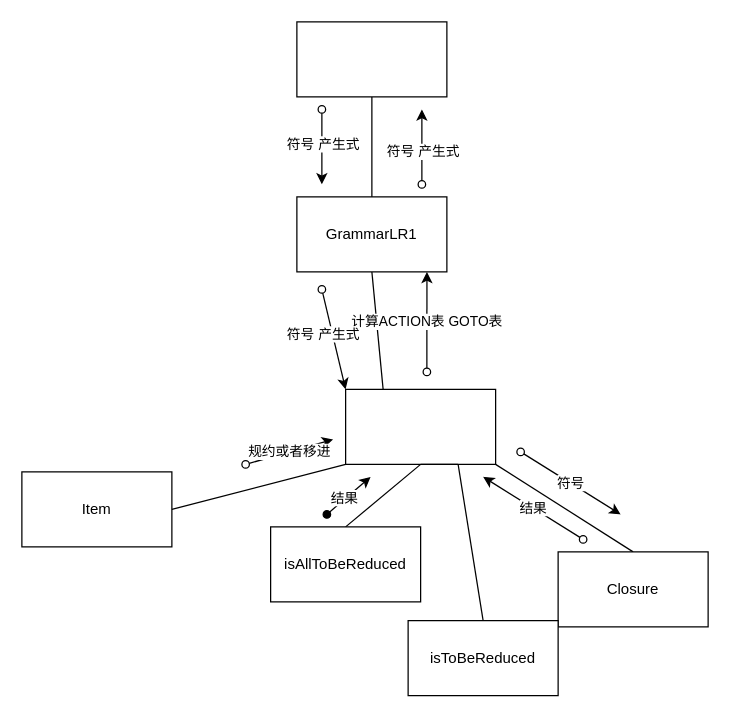
Image size: 730x718. Some labels were removed from this diagram. Each missing label, with the centre of its shape:
Grammar: (x=371, y=59)
ItemSet: (x=420, y=426)
